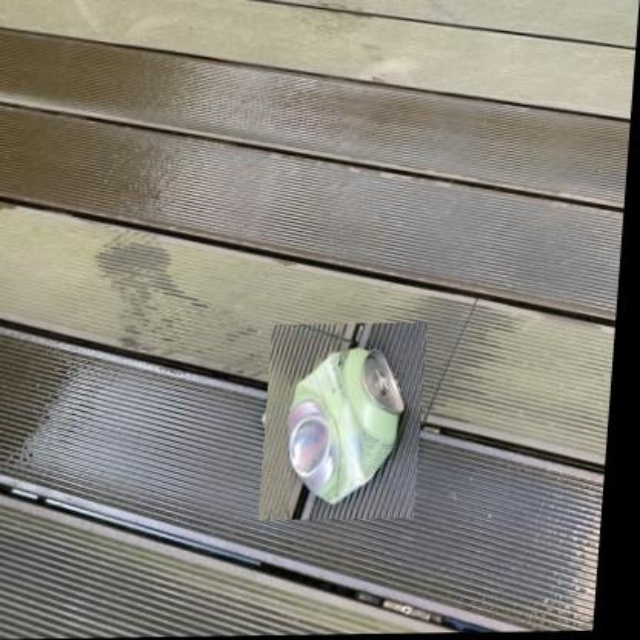trash: (288, 348, 403, 502)
